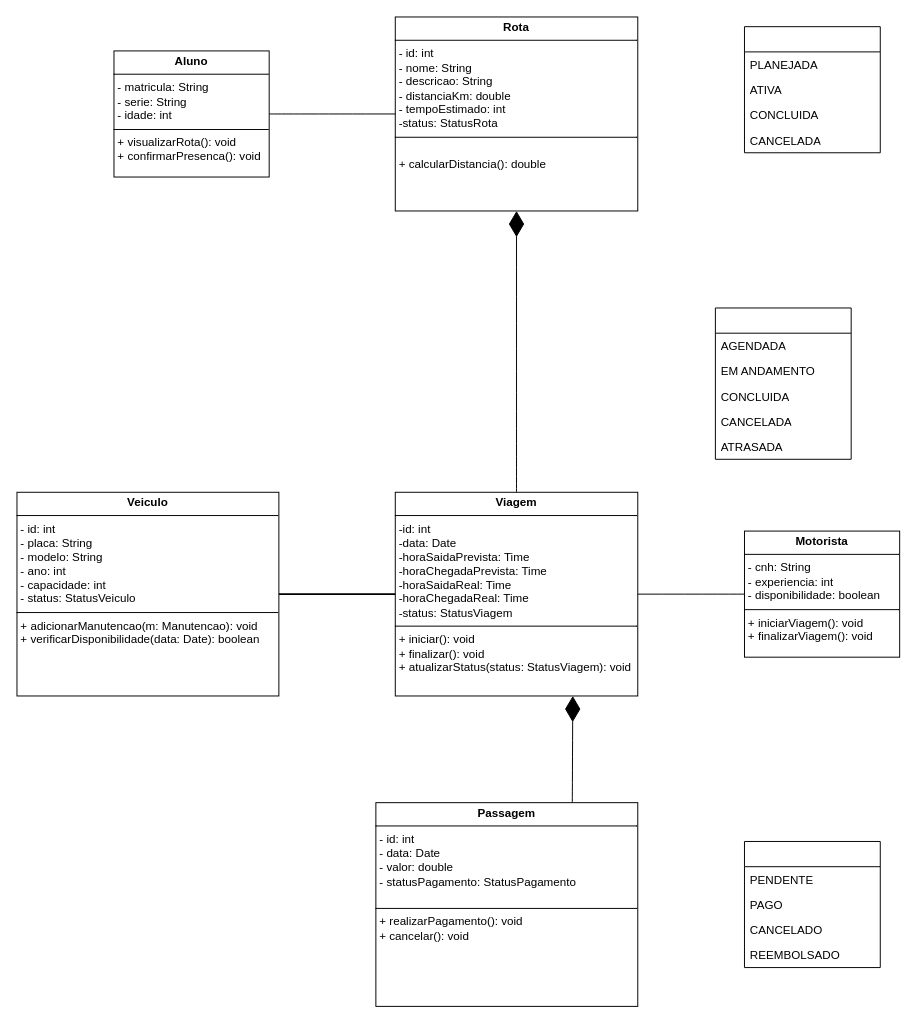
This 917x1023 diagram has some shape labels left out. The shapes that lost their labels are listed below. From the top down, each one's box as (x1, y1, x2, y2) in pixels, then its label:
(744, 26, 880, 153): SatusRota
(714, 307, 851, 459): SatusViagem
(744, 841, 880, 968): StatusPagamento
